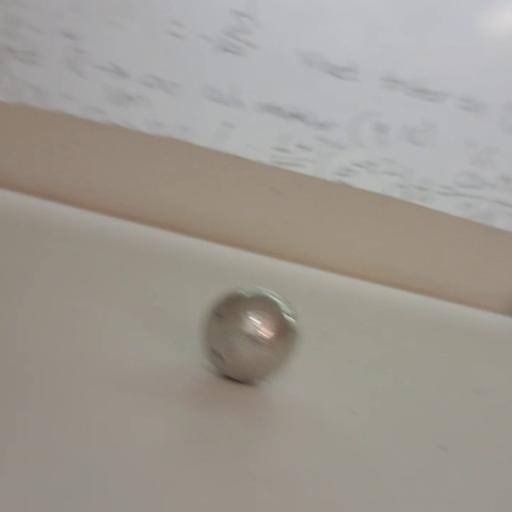alive: (202, 286, 301, 385)
